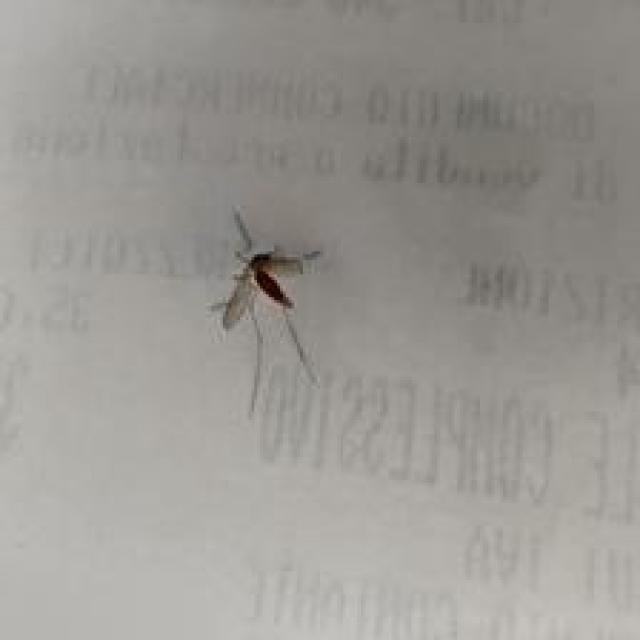Culex: (208, 204, 323, 416)
